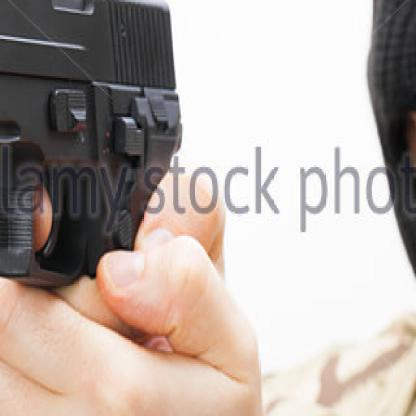gun: (0, 0, 198, 307)
